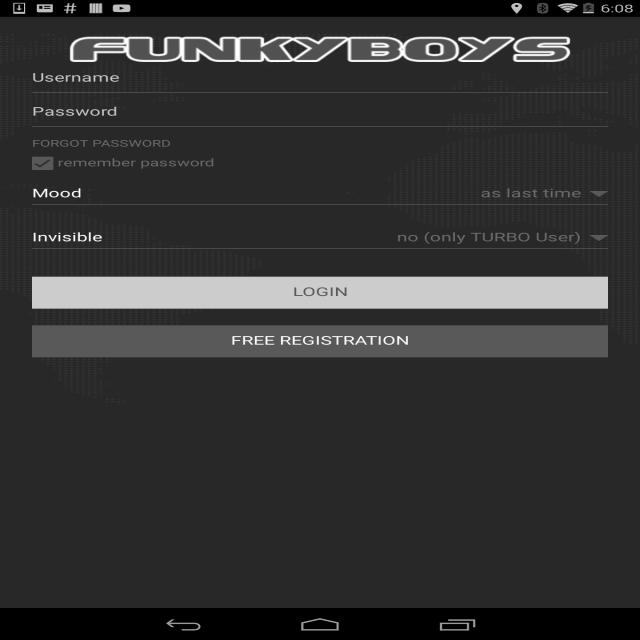Button: (32, 276, 608, 308), (32, 326, 608, 358)
CheckBox: (32, 155, 640, 172)
EditText: (32, 62, 608, 93), (32, 96, 608, 127)
ImageView: (32, 37, 640, 62), (590, 191, 640, 197), (590, 235, 640, 241)
Spinner: (81, 181, 640, 207), (102, 225, 640, 251)
TextView: (81, 181, 586, 207), (102, 225, 587, 251), (32, 136, 171, 152), (32, 228, 102, 248), (32, 184, 82, 204)
